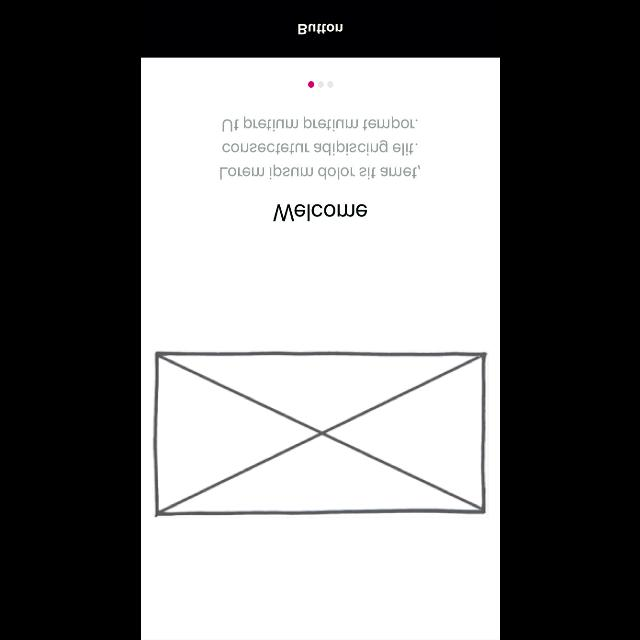image: (152, 350, 486, 518)
pageindicator: (308, 80, 334, 88)
text: (218, 116, 422, 180), (272, 204, 366, 222)
textbutton: (140, 0, 500, 58)
